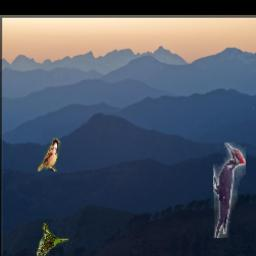Sparrow: (37, 222, 69, 256), (37, 137, 60, 171)
Woodpecker: (213, 142, 246, 238)
